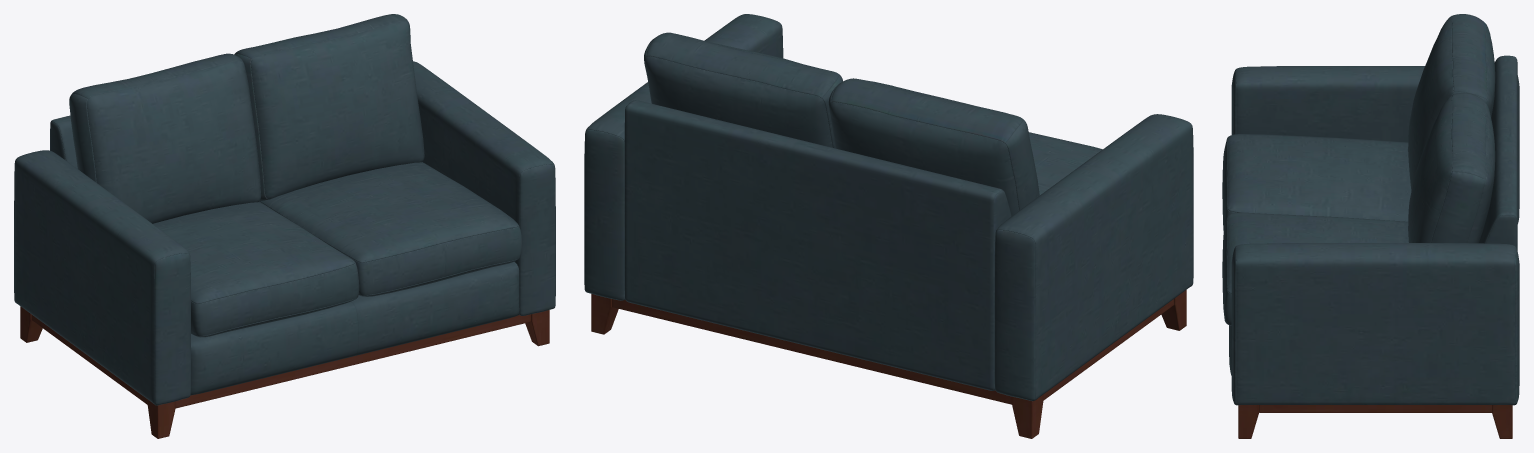
Rendered from abo-B071ZLY18Y.glb.
3 views of the same model, side by side, from view 1: azimuth 30°, elevation 25°; view 2: azimuth 150°, elevation 25°; view 3: azimuth 270°, elevation 25° (orthographic). The views are drawn at different scales.
Bounding box in the file's own units: 1.49 × 0.903 × 0.955.
1 material, 1 textured.
